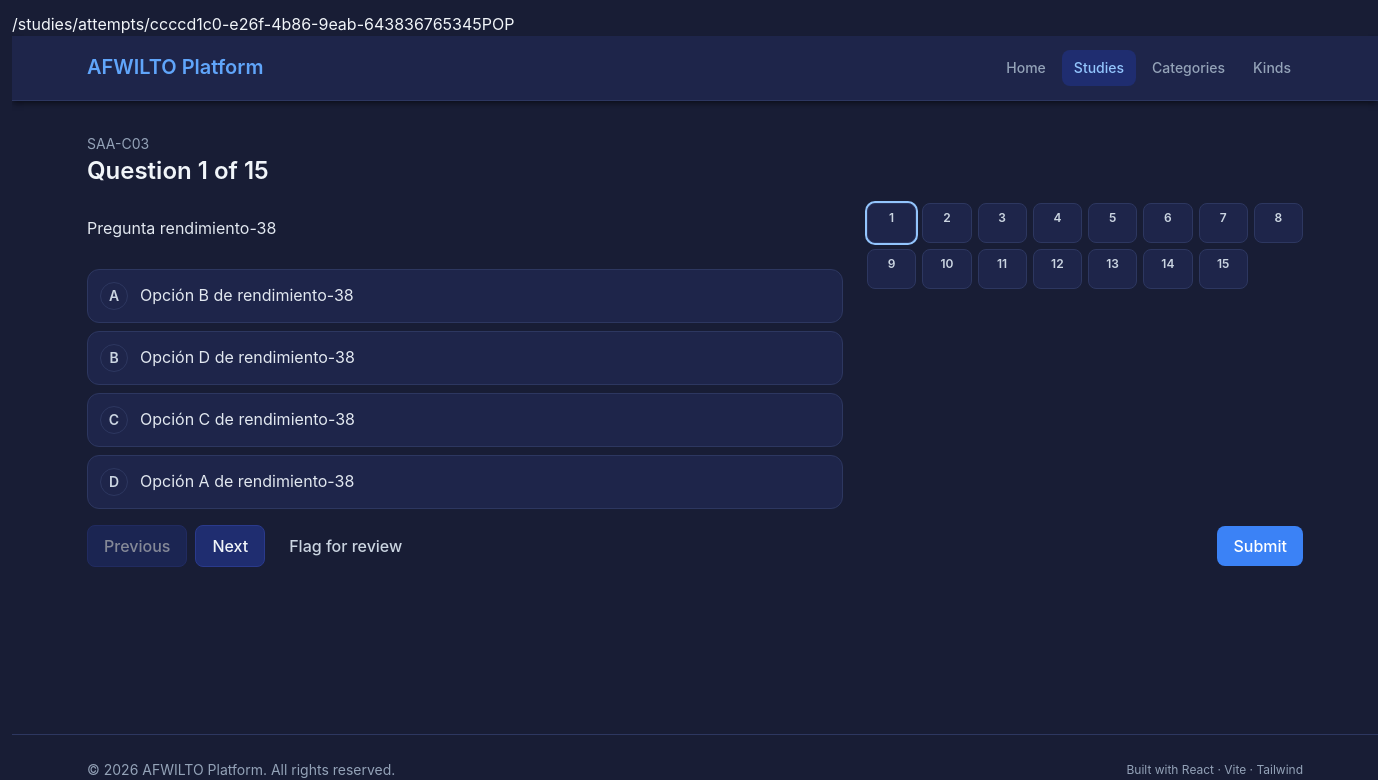
RunnerPage: moving around and the URL (S09-7) › a navigator cell jumps to its question
Check: the heading "Question 1 of 15" is shown, box [87, 154, 269, 187]
What coordinates should you click on to do the following:
click the button "9"
I would click on:
 (892, 269)
Its box is [867, 249, 916, 289].
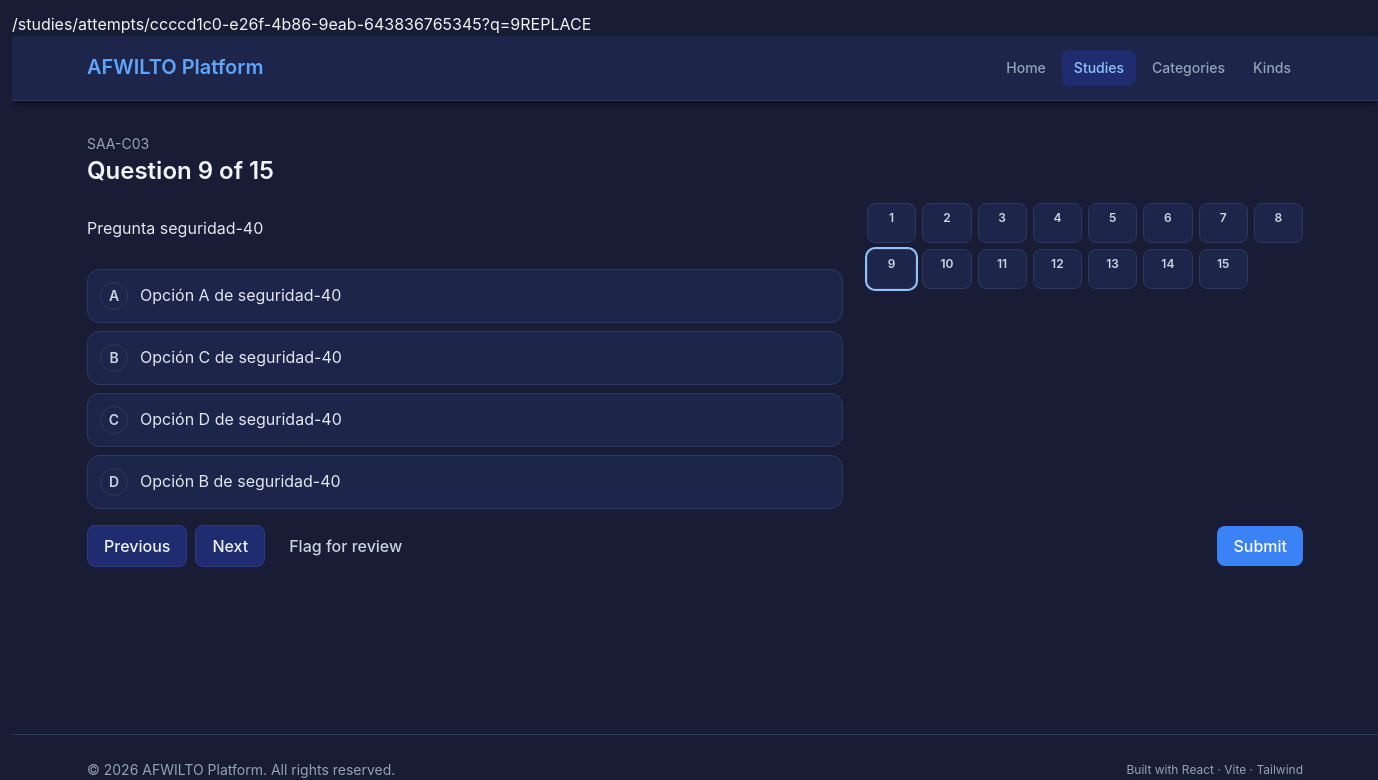
Check: the heading "Question 9 of 15" is shown, box [87, 154, 274, 187]
Check: the text with test id "location" shows "?q=9", box [12, 14, 520, 34]
